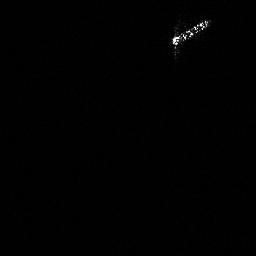ship: (172, 20, 208, 45)
